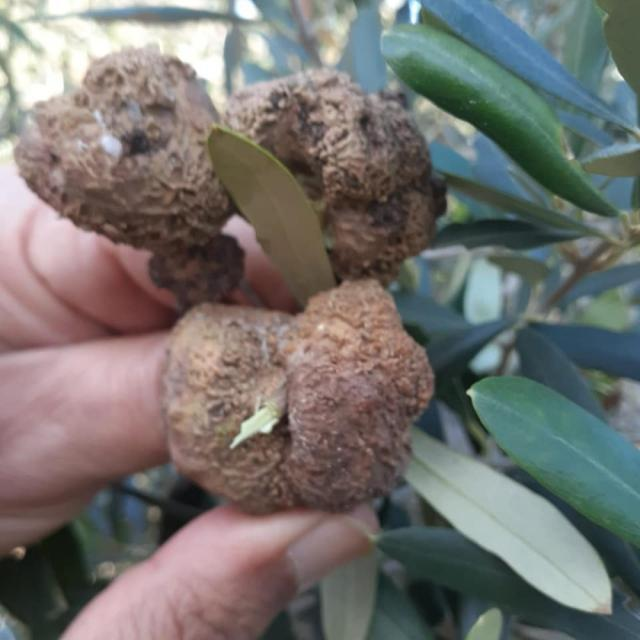Tuberculosis: (162, 278, 433, 514), (14, 46, 239, 269), (224, 70, 446, 284)
